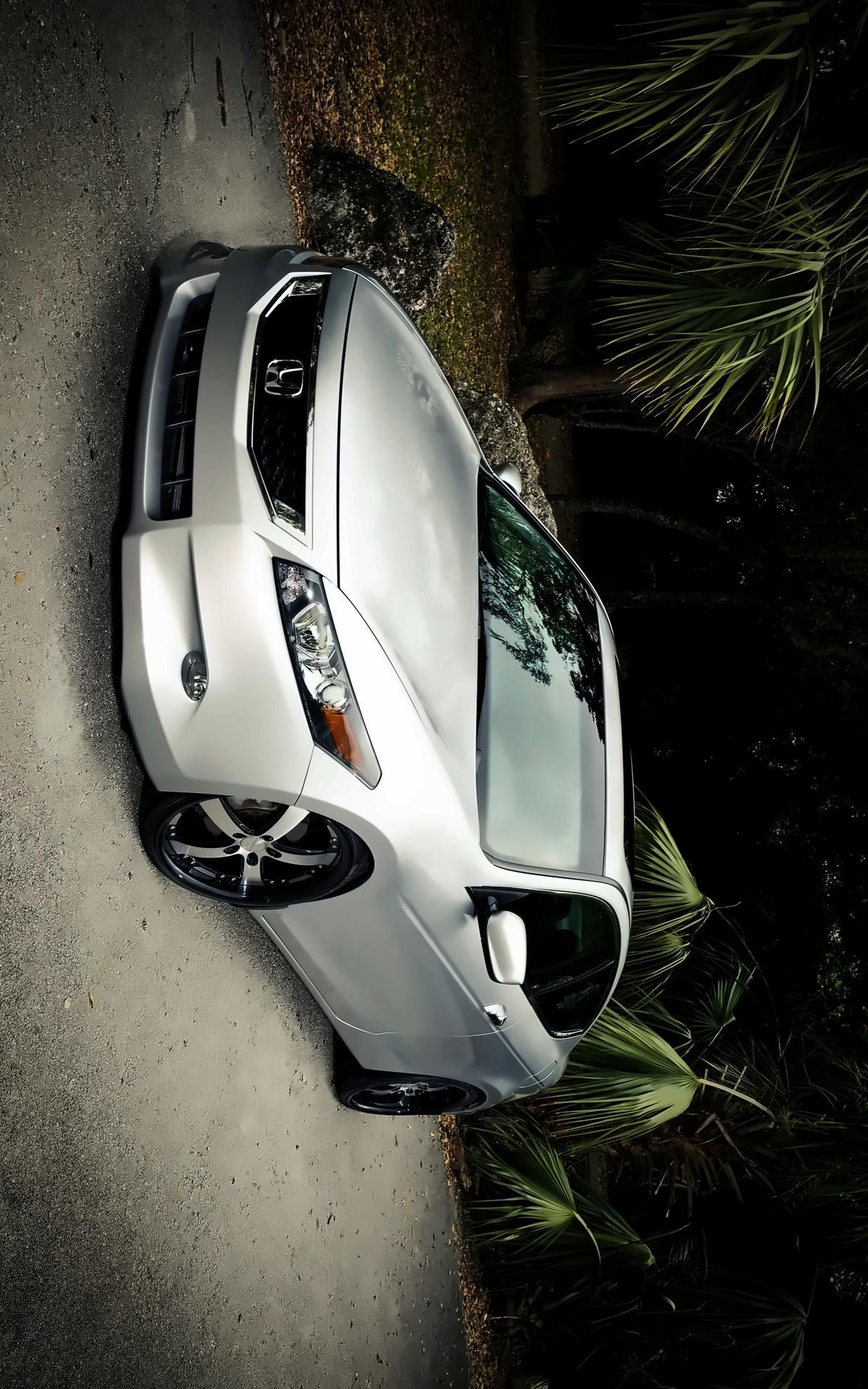Car hood: (335, 255, 494, 831)
Fender - -F-L-: (273, 734, 524, 908)
Front bumper: (105, 208, 320, 810)
Headlight - -L-: (253, 530, 397, 800)
Passenger-s door - -F-L-: (255, 868, 632, 1038)
Side bumper - -L-: (241, 888, 394, 1078)
Side mirror - -L-: (474, 890, 543, 999)
Side mirror - -R-: (488, 447, 548, 511)
